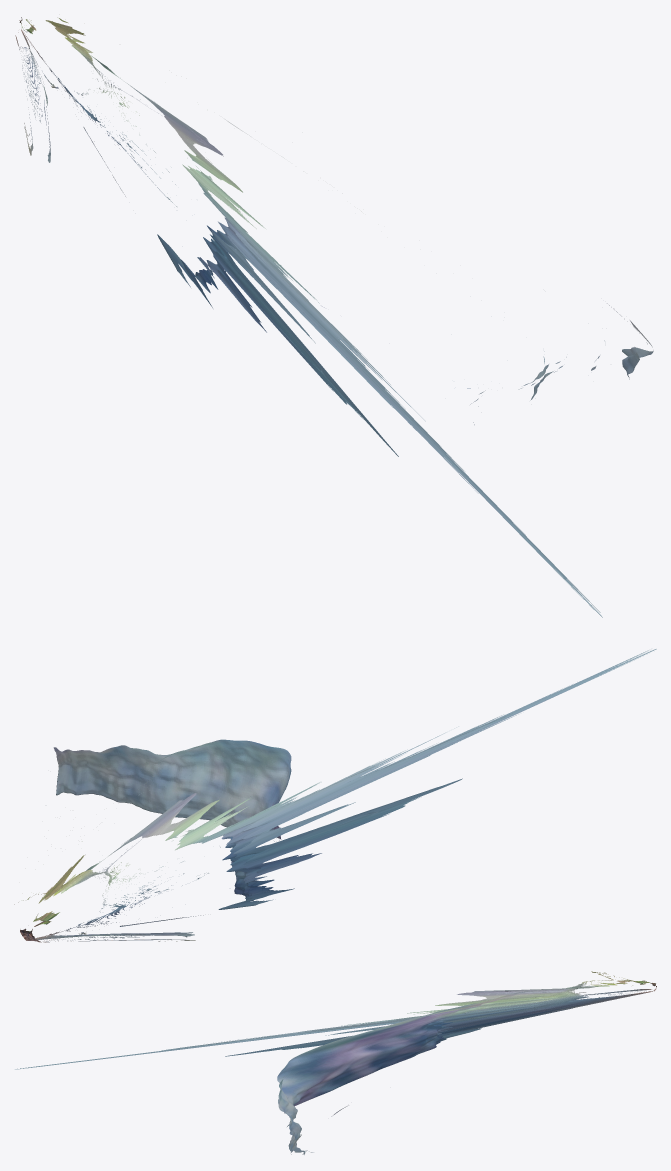
Rendered from model-landscape-model-0.glb.
3 renders of one model, top to bottom at view 1: azimuth 30°, elevation 25°; view 2: azimuth 150°, elevation 25°; view 3: azimuth 270°, elevation 25°, orthographic. The views are drawn at different scales.
Visible parts, largest first — view 1: mesh0; view 2: mesh0; view 3: mesh0.
Part boxes in pixels (x1,y1,x2,y2): mesh0: [15, 17, 653, 617]; mesh0: [14, 649, 656, 942]; mesh0: [15, 971, 656, 1154].
Size of the model in its own units: 7.25 by 3.89 by 19.67.
1 material, 1 textured.
